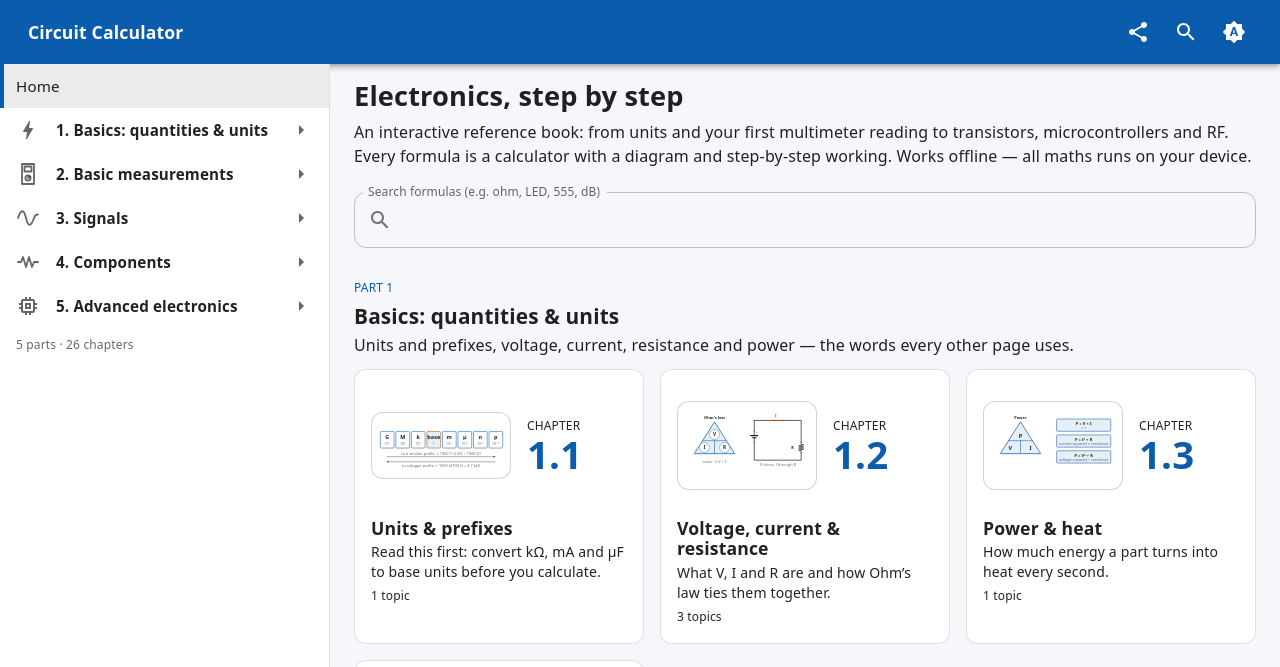
it: search dialog › shows a friendly empty state
Click the button with test id "search-button" at (1186, 32), box [1164,10,1208,54]
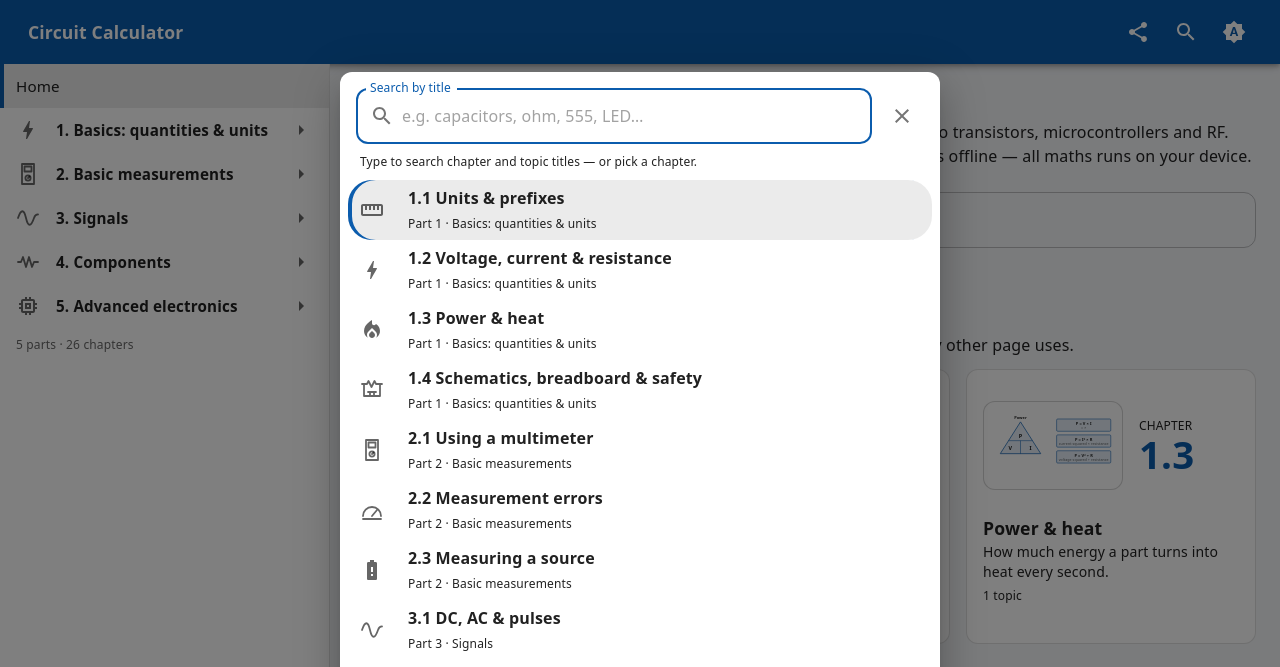
Type "qwertyzz" into the dropdown with test id "search-input" at (637, 116), box [402,88,872,144]
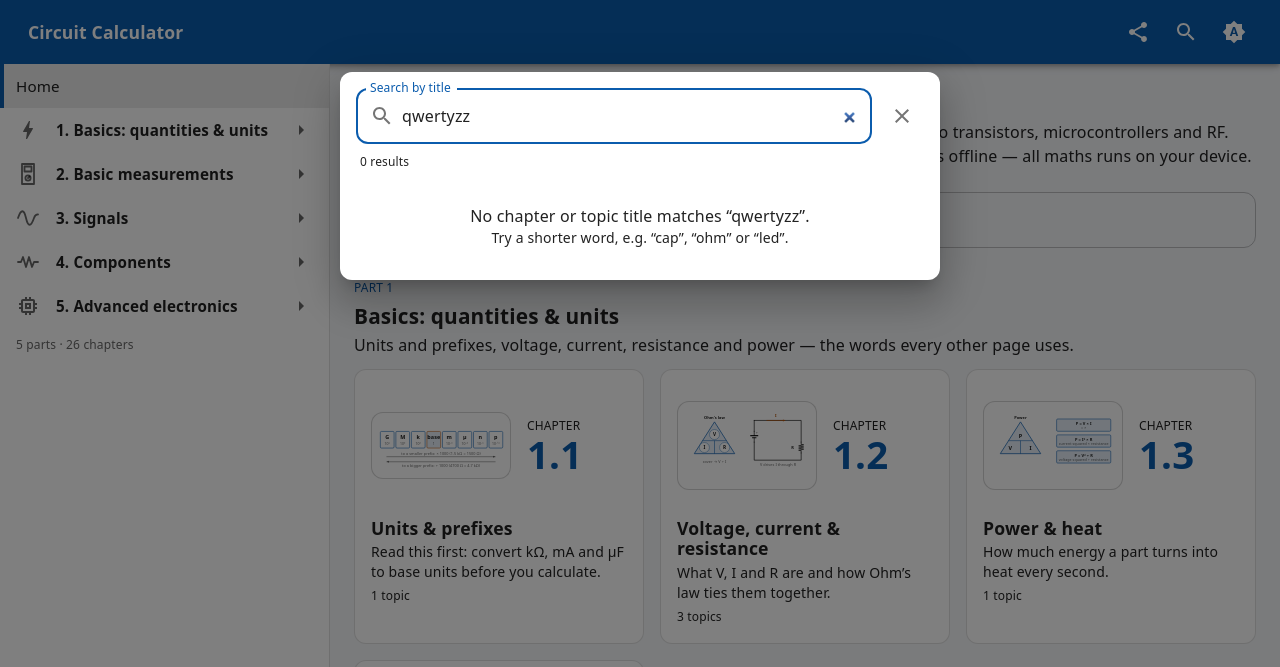
Now the list item with test id "search-empty" shows "No chapter or topic title matches", box [470,205,731,227]
Now the message with test id "search-status" reads "0 results", box [360,153,409,170]
